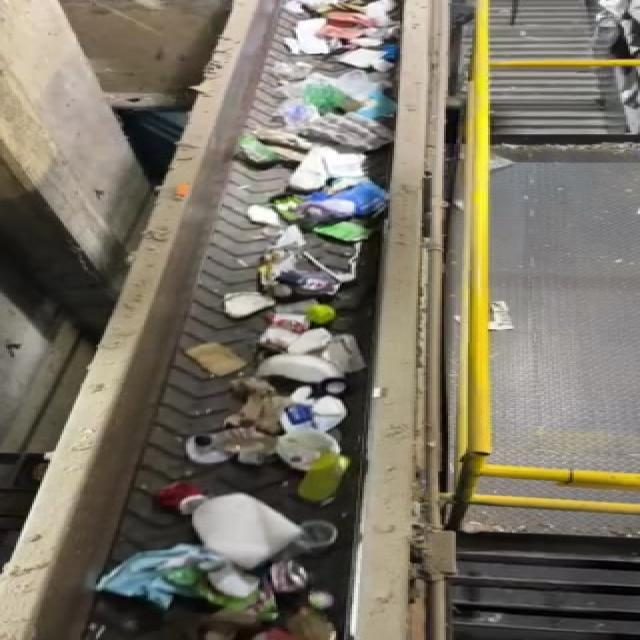hdpe: (150, 477, 312, 566)
paper: (103, 546, 270, 632), (212, 374, 282, 466)
pp: (277, 435, 364, 506), (272, 376, 341, 438)
